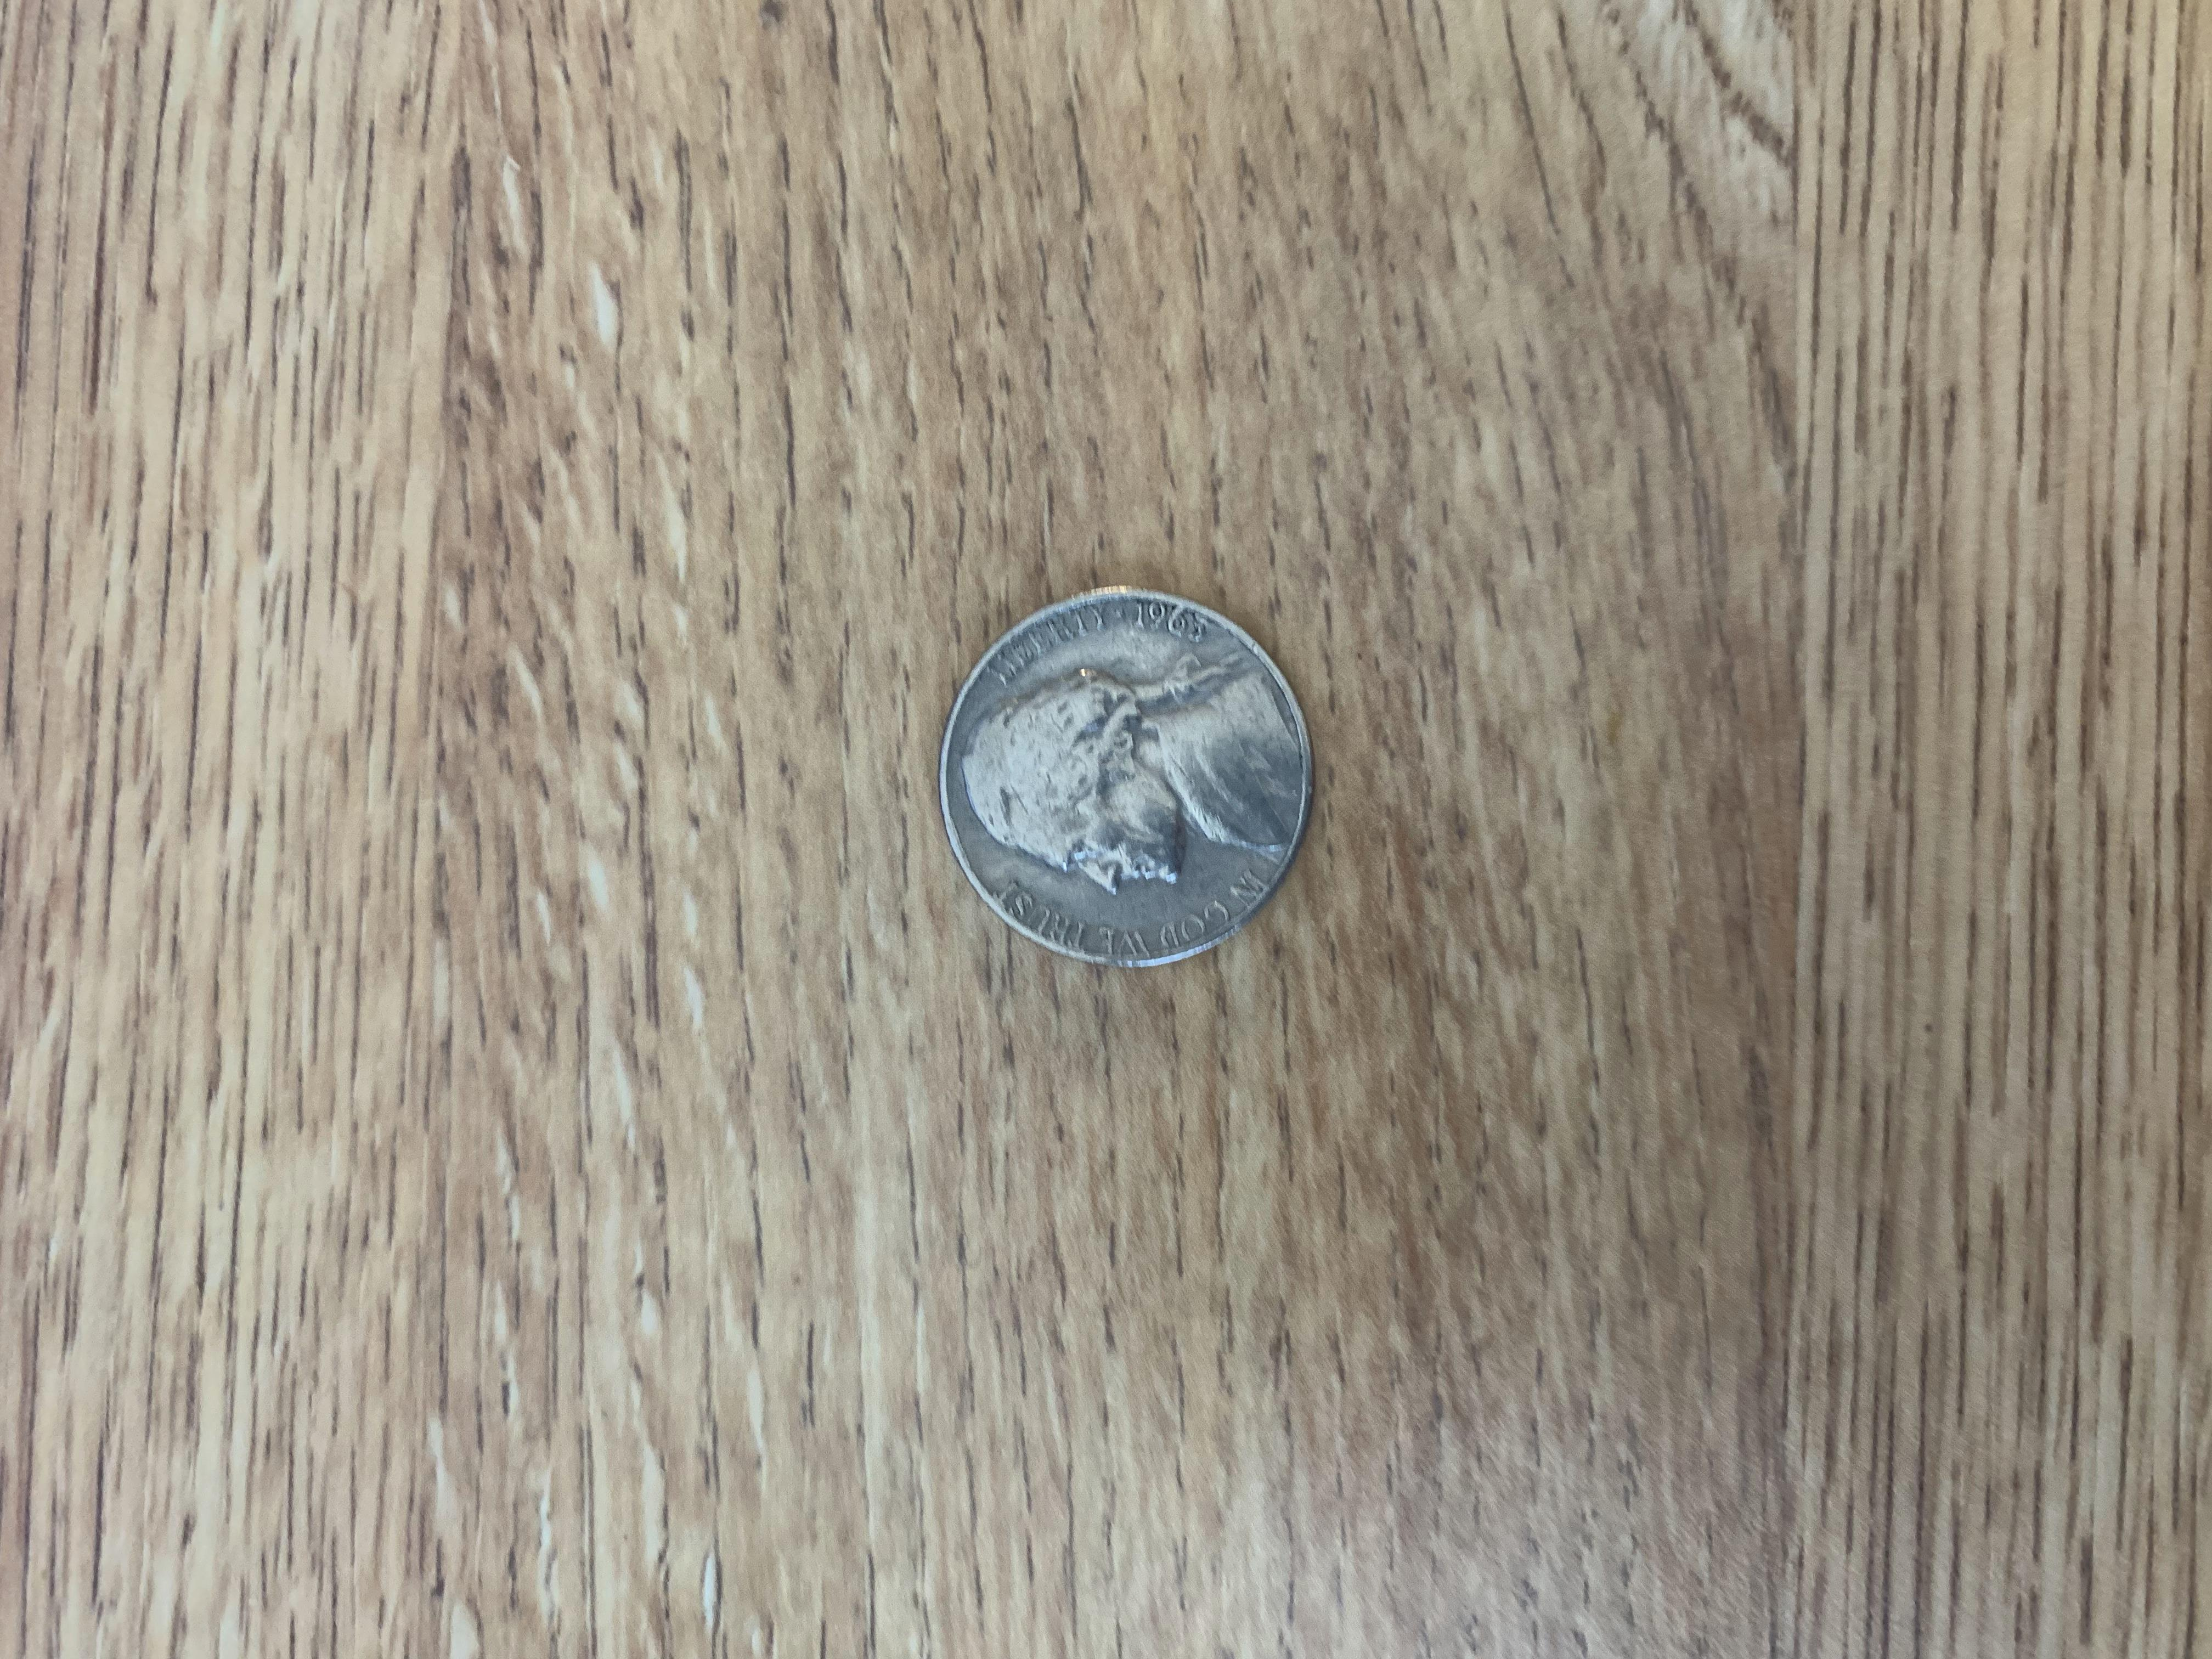Nickel: (925, 577, 1325, 972)
